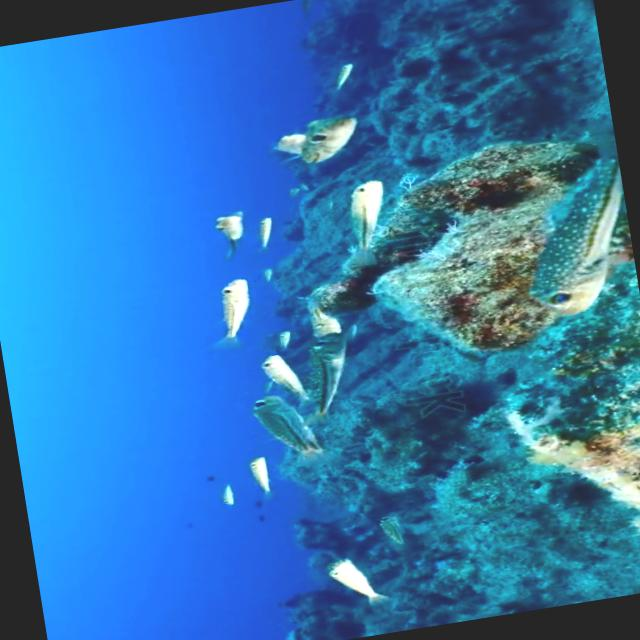Balon Baligi: (485, 152, 640, 324), (291, 302, 364, 423), (238, 388, 330, 472), (275, 102, 371, 172), (328, 175, 400, 265), (312, 552, 394, 618), (196, 275, 257, 356), (247, 353, 312, 413), (201, 206, 250, 248), (236, 452, 278, 497)
